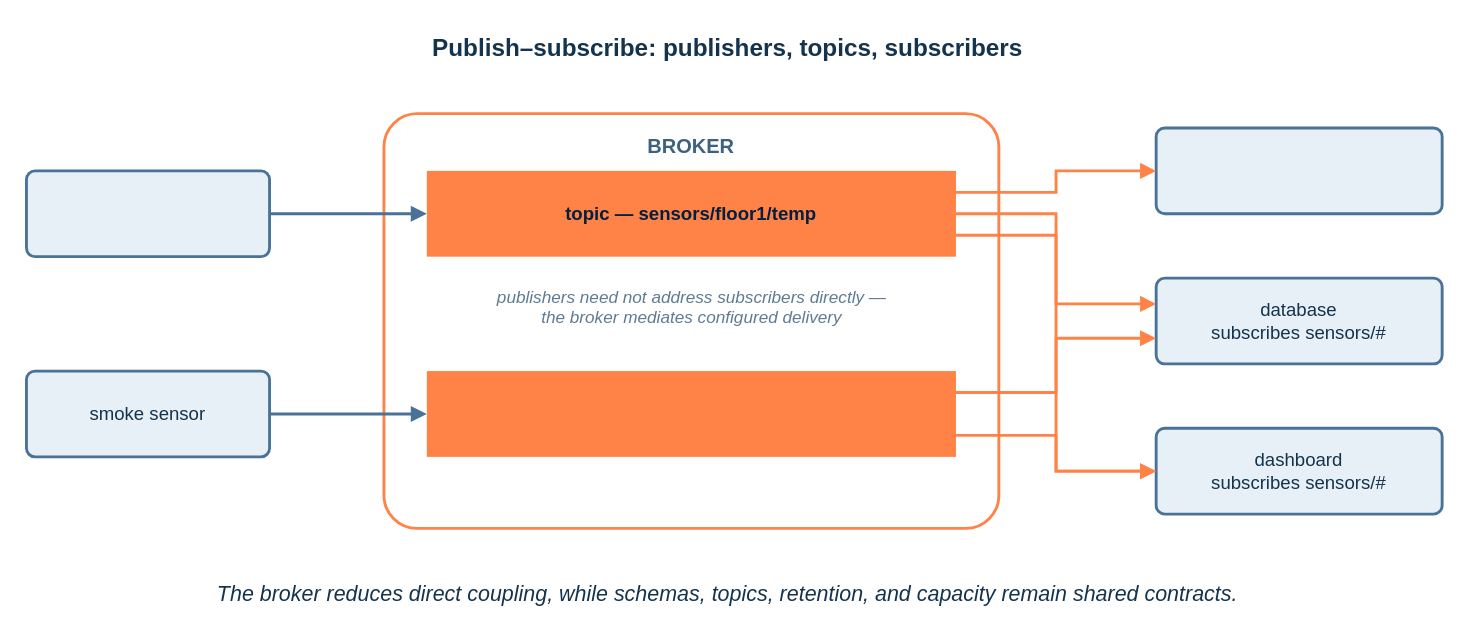
The diagram is 1467 pixels wide and 635 high, and some of its shapes have lost their labels. Here are the shapes that lost their labels. From the top down, the centre of each, then its label:
At (x=1298, y=170): "controller subscribes sensors/+/+".
At (x=147, y=213): "temp sensor".
At (x=690, y=413): "topic — sensors/floor1/smoke".
